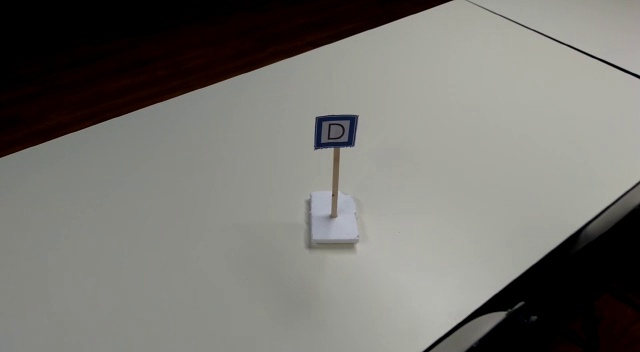durak: (314, 114, 357, 149)
